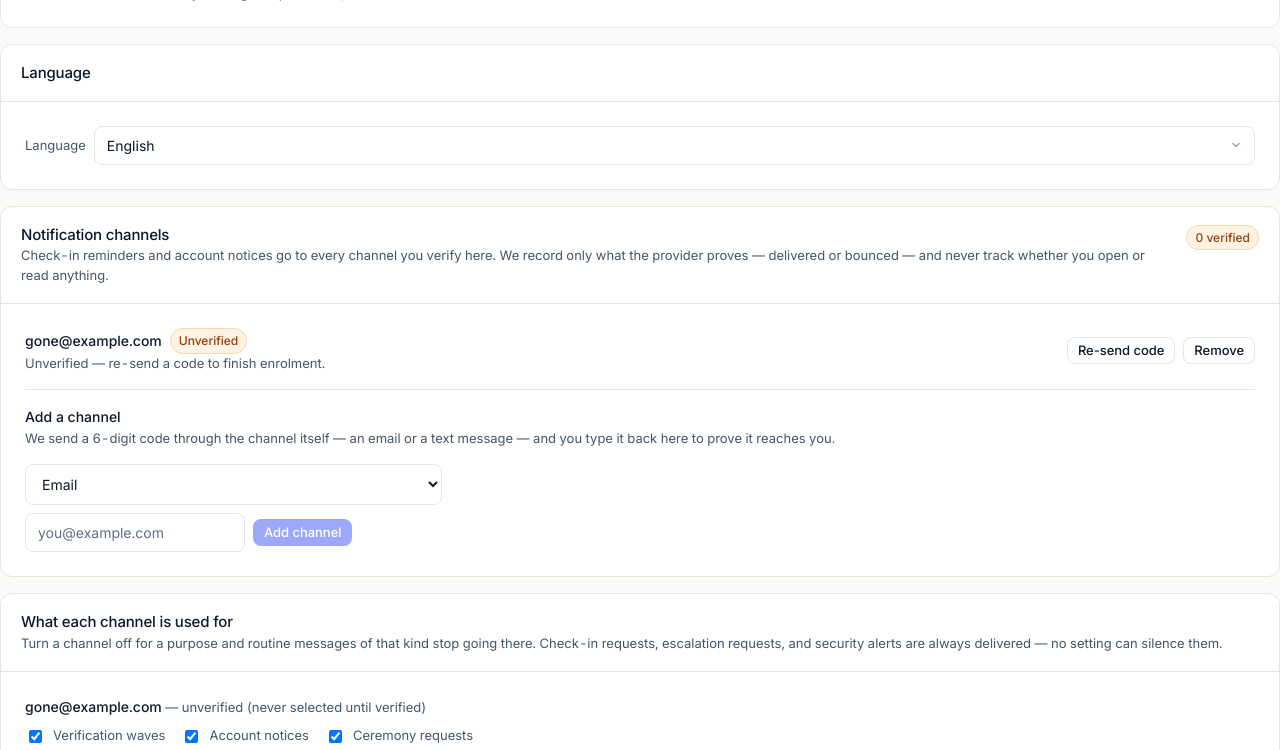
it: Settings — notification channels (CV-0.0) › removes an UNVERIFIED channel immediately (a typo cleanup needs no ceremony)
The width and height of the screenshot is (1280, 750).
(page scrolled)
Click the button with test id "channel-remove-ch-x".
click(1219, 351)  # box [1183, 337, 1255, 364]
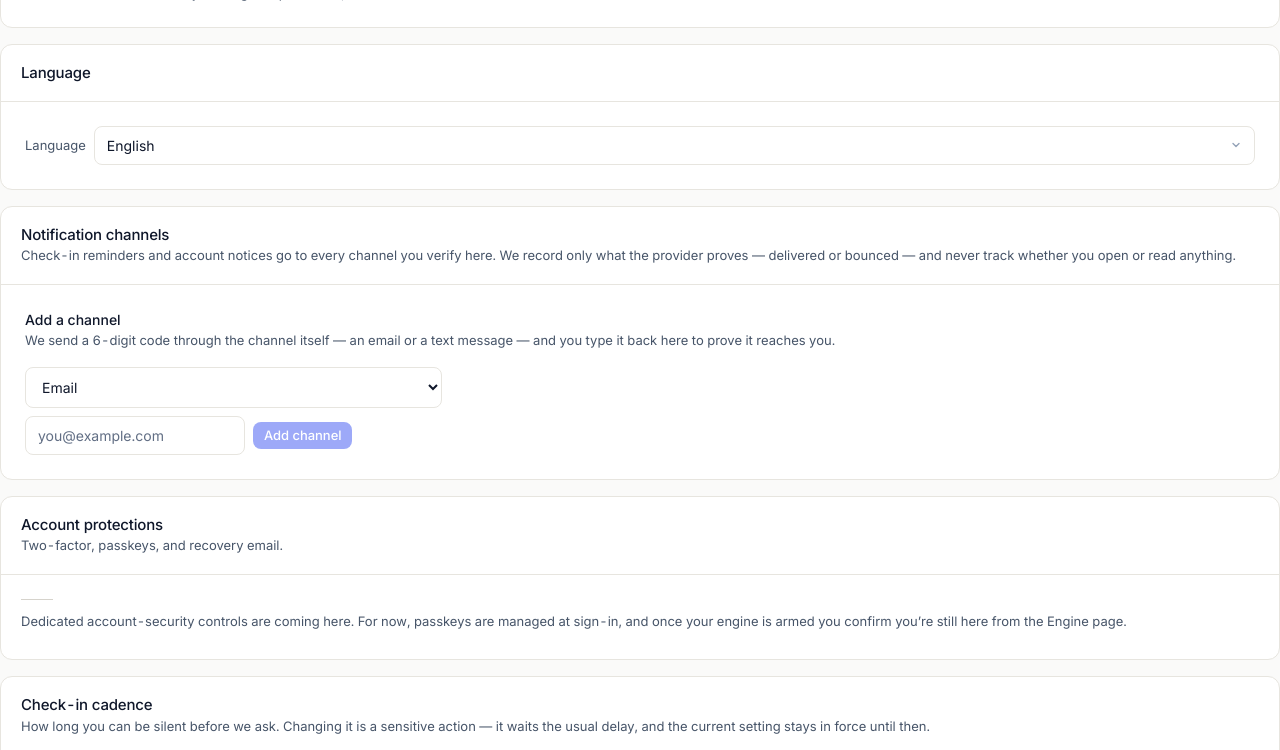
Expected: the text "gone@example.com" is gone
